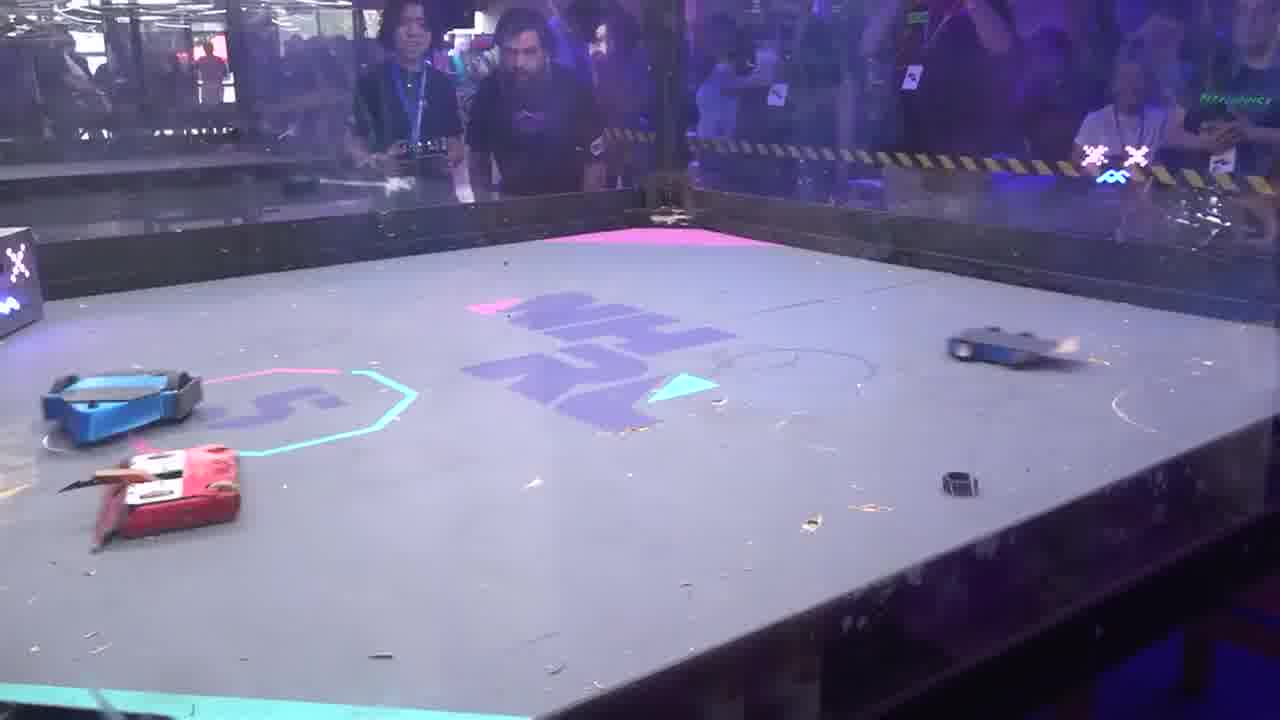combatbot: (93, 443, 243, 552), (41, 369, 203, 448), (945, 321, 1080, 376)
housebot: (0, 220, 46, 357)
wheel: (942, 470, 978, 497)
